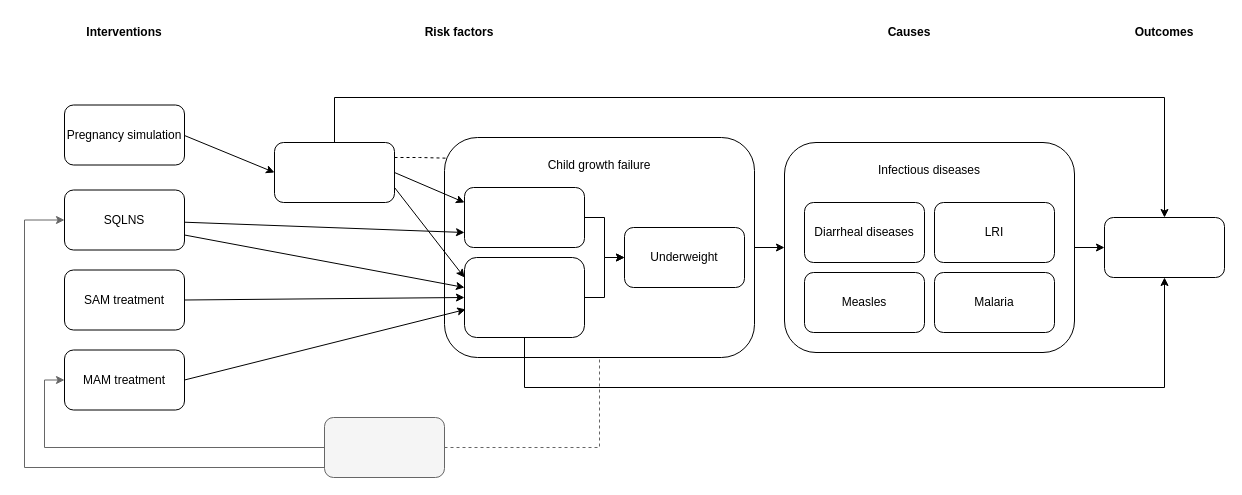
The diagram is 1242 pixels wide and 495 high, and some of its shapes have lost their labels. The centre of each missing label's shape, as x and y in pixels:
"LBWSG exposure" belongs at (x=334, y=172).
"Morbidity and mortality" belongs at (x=1164, y=247).
"Stunting" belongs at (x=524, y=217).
"Target area" belongs at (x=384, y=447).
"Wasting/PEM" belongs at (x=524, y=297).
